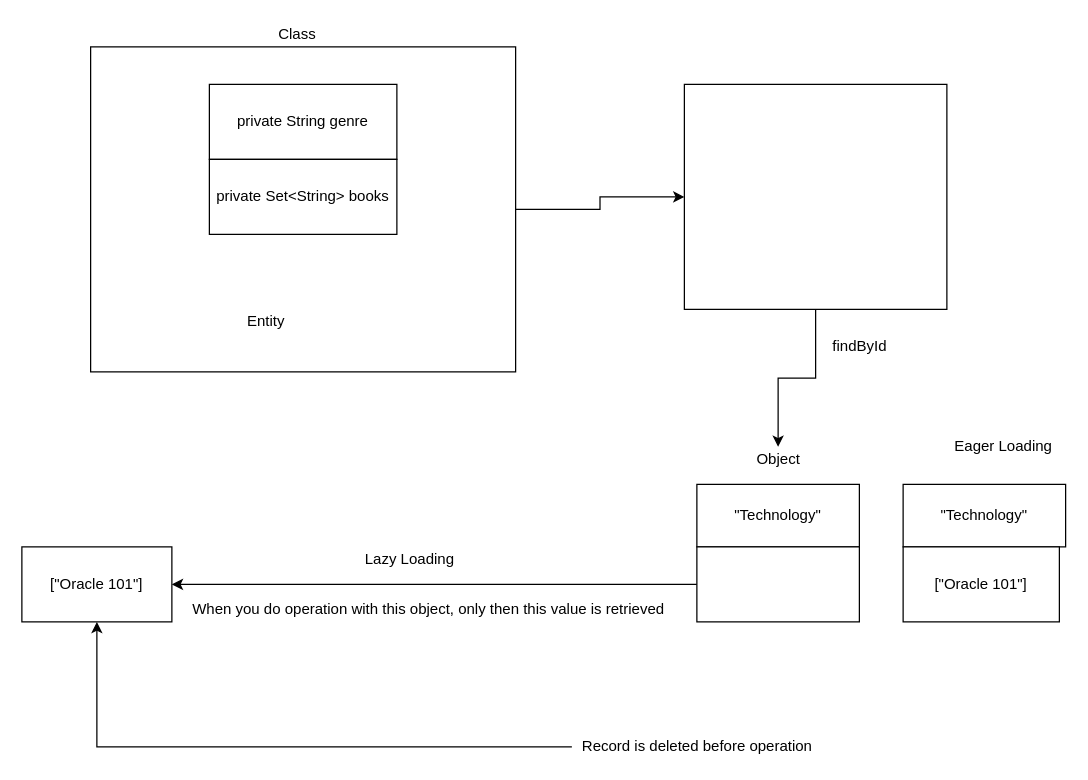
Some shapes in this 1088 by 780 pixel diagram are drawn without their labels. The centre of each missing label's shape, as x and y in pixels:
CrudRepository: (x=815, y=196)
null: (x=777, y=584)
